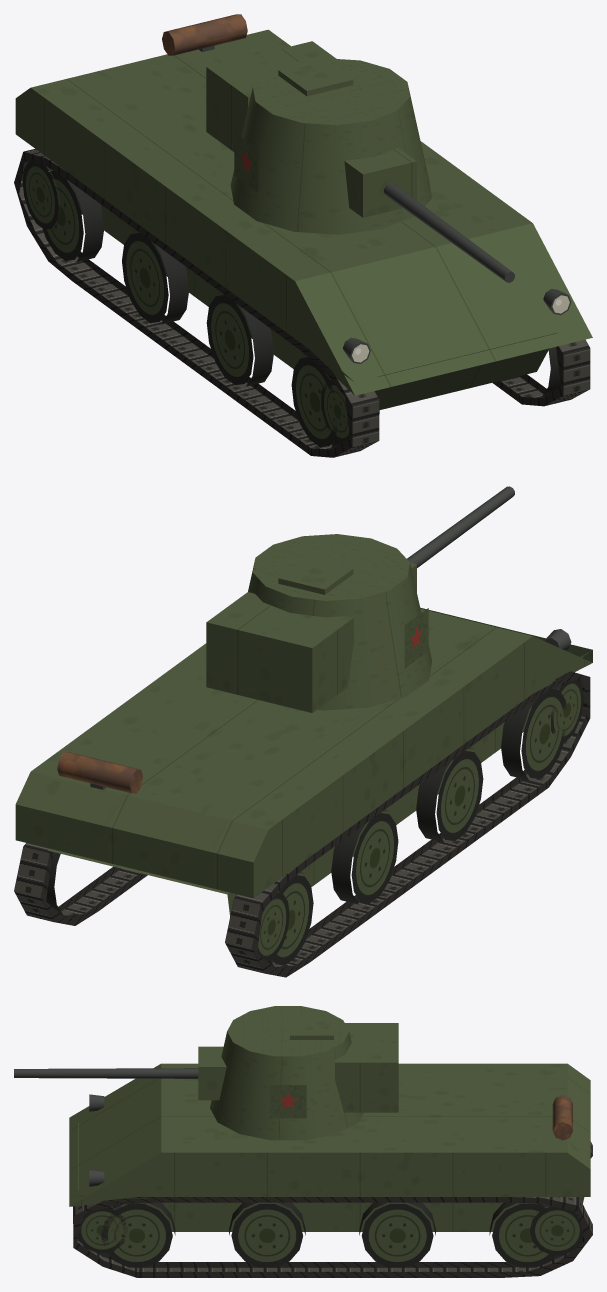
The model's file is armor-1.glb.
The picture shows the model from 3 angles, top to bottom: view 1: azimuth 30°, elevation 25°; view 2: azimuth 150°, elevation 25°; view 3: azimuth 270°, elevation 25°; orthographic projection. The views are drawn at different scales.
Visible parts, largest first — view 1: hull, turret, tracks_right, gun, galet_right_2, galet_right_3, galet_right_1, tracks_left, galet_right_4, barbotin_right, hatch, roue_folle_right; view 2: hull, turret, tracks_right, tracks_left, galet_right_3, galet_right_2, galet_right_4, galet_right_1, gun, hatch, barbotin_right, roue_folle_right; view 3: hull, turret, tracks_left, galet_left_2, galet_left_3, galet_left_4, gun, galet_left_1, barbotin_left, roue_folle_left, hatch.
Part boxes in pixels (x1,y1,x2,y2): hull: (15,14,592,409); turret: (206,41,431,234); tracks_right: (14,149,379,457); gun: (344,147,514,282); galet_right_2: (122,230,188,324); galet_right_3: (206,292,273,386); galet_right_1: (42,168,103,262); tracks_left: (492,339,590,406); galet_right_4: (291,354,341,448); barbotin_right: (22,161,79,230); hatch: (278,59,353,96); roue_folle_right: (321,377,349,442); hull: (15,607,592,916); turret: (206,534,432,712); tracks_right: (225,671,590,977); tracks_left: (14,843,147,925); galet_right_3: (416,748,483,842); galet_right_2: (331,810,398,904); galet_right_4: (501,686,566,780); galet_right_1: (268,872,313,966); gun: (407,486,514,591); hatch: (278,557,353,594); barbotin_right: (257,893,289,961); roue_folle_right: (531,680,584,742); hull: (69,1063,590,1231); turret: (210,1006,398,1140); tracks_left: (73,1197,592,1277); galet_left_2: (359,1202,435,1267); galet_left_3: (229,1202,305,1267); galet_left_4: (101,1202,175,1267); gun: (14,1046,226,1100); galet_left_1: (489,1202,555,1267); barbotin_left: (529,1204,583,1255); roue_folle_left: (78,1205,127,1253); hatch: (290,1018,333,1039).
Size of the model in its own units: 2.29 by 2.47 by 6.29.
Materials: 5 (5 with a texture image).
